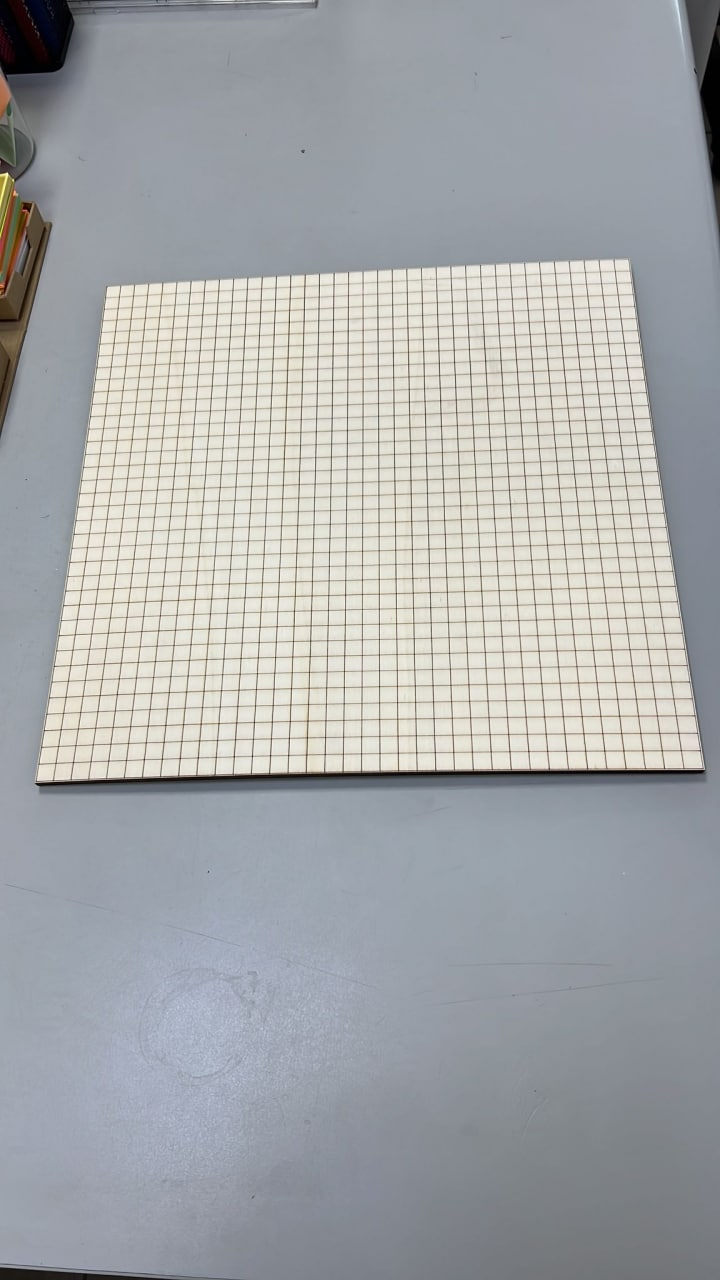grid: (31, 253, 706, 794)
